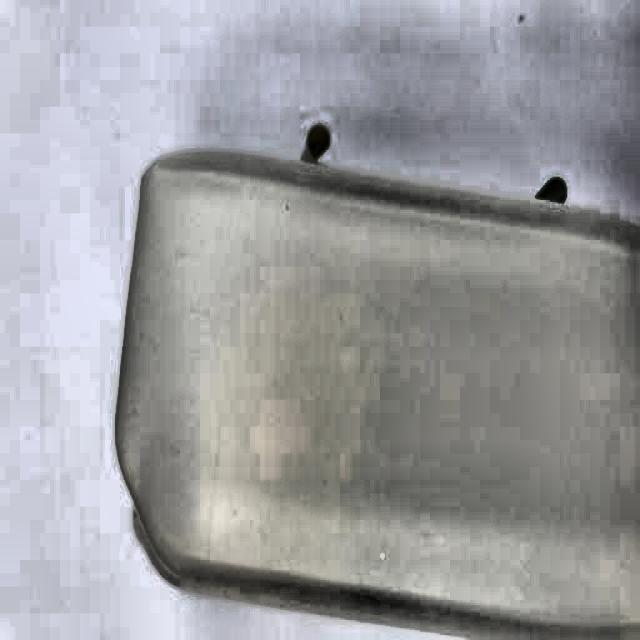plastic: (127, 131, 640, 640)
